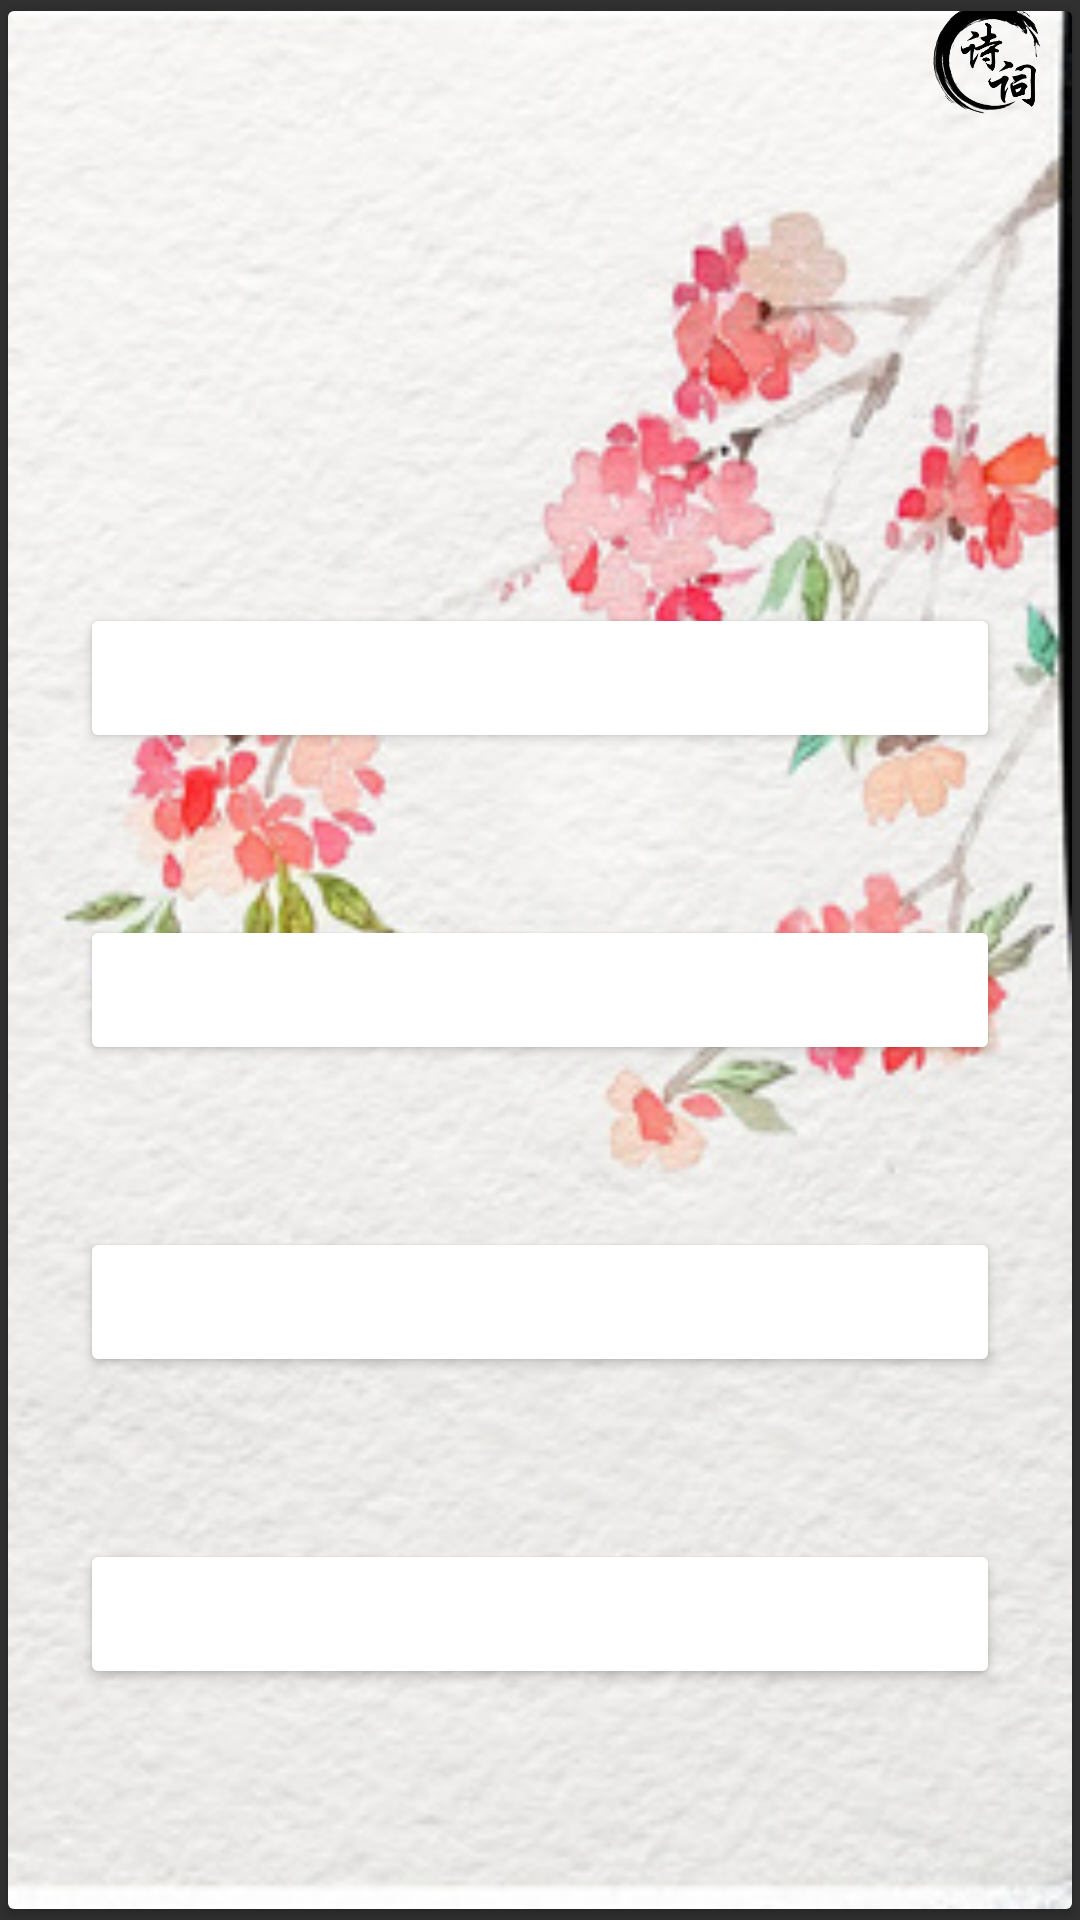

Icon bounding boxes for this 1080px x 1920px phone screenshot, format (x1, y1, x2, y2):
log: (928, 0, 1048, 114)
